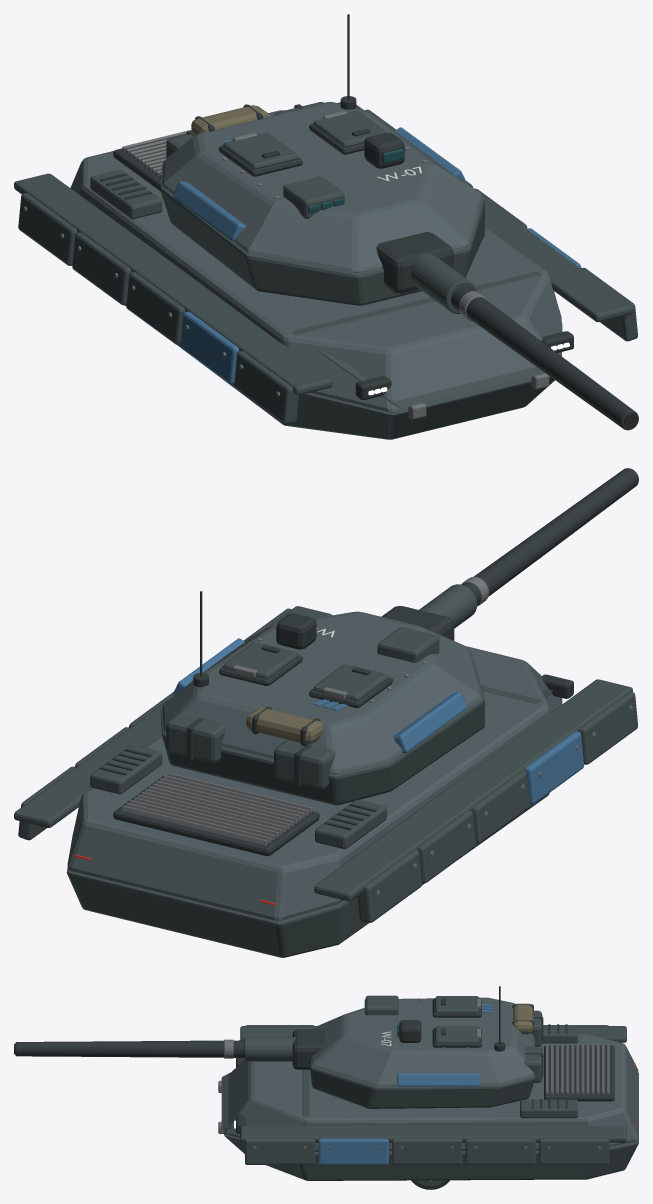
Rendered from west_tank.glb.
The picture shows the model from 3 angles, top to bottom: view 1: azimuth 30°, elevation 25°; view 2: azimuth 150°, elevation 25°; view 3: azimuth 270°, elevation 25°; orthographic projection. The views are drawn at different scales.
Parts seen in each view (by area): view 1: FalkeHull, FalkeTurret, FalkeBarrel; view 2: FalkeHull, FalkeTurret, FalkeBarrel; view 3: FalkeHull, FalkeTurret, FalkeBarrel.
Boxes of the visible parts, left/top/right/bottom form: FalkeHull: left=14, top=102, right=637, bottom=439; FalkeTurret: left=160, top=14, right=484, bottom=305; FalkeBarrel: left=411, top=253, right=638, bottom=430; FalkeHull: left=14, top=606, right=637, bottom=957; FalkeTurret: left=160, top=591, right=484, bottom=805; FalkeBarrel: left=419, top=468, right=638, bottom=628; FalkeHull: left=218, top=1024, right=638, bottom=1180; FalkeTurret: left=292, top=986, right=543, bottom=1108; FalkeBarrel: left=14, top=1037, right=295, bottom=1061.
Size of the model in its own units: 3.23 by 2.83 by 7.23.
